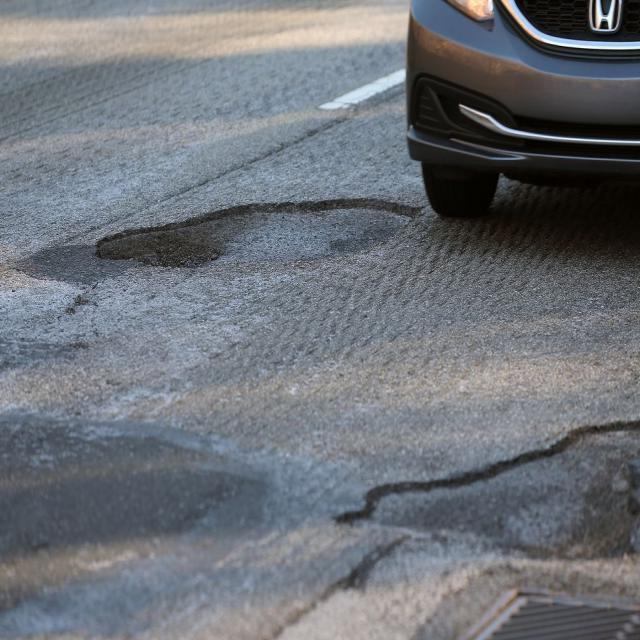pothole: (328, 411, 640, 571), (91, 193, 421, 280)
